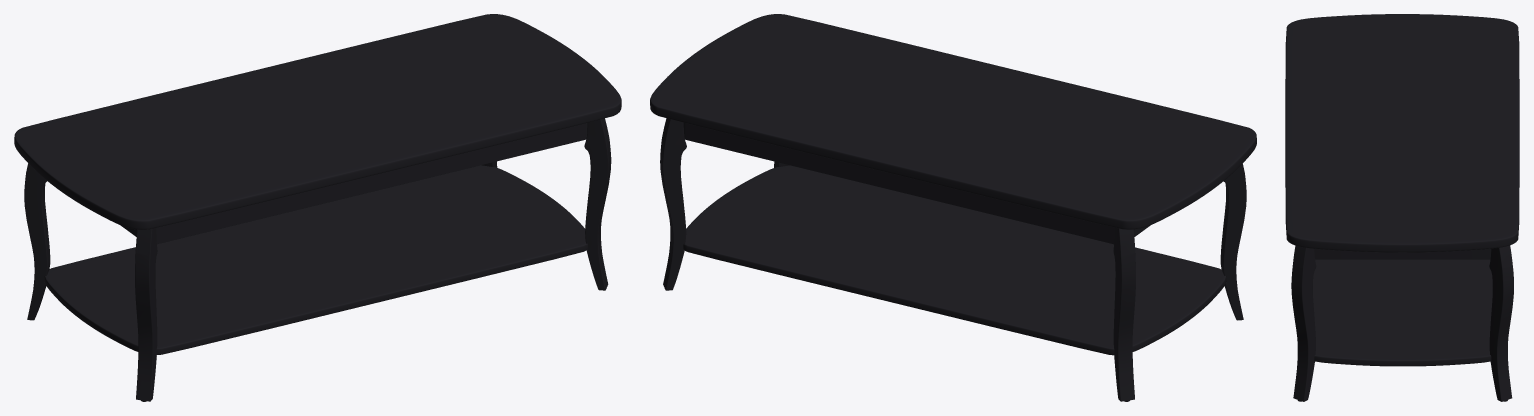
File: abo-B07F49VHB8.glb
3 renders of one model, left to right at view 1: azimuth 30°, elevation 25°; view 2: azimuth 150°, elevation 25°; view 3: azimuth 270°, elevation 25°, orthographic. The views are drawn at different scales.
Bounding box in the file's own units: 1.33 × 0.457 × 0.571.
Materials: 1 (1 with a texture image).
